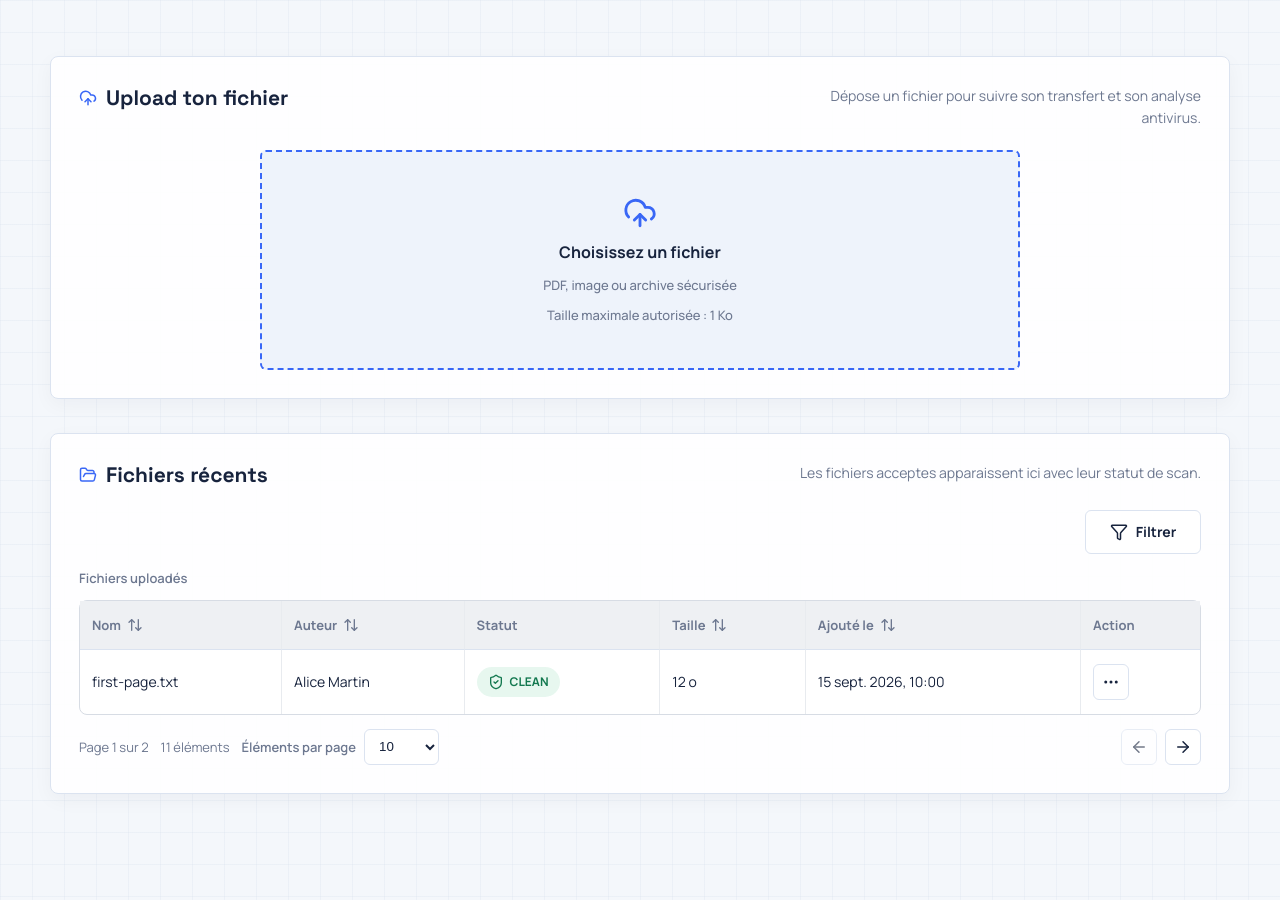
Test case: DashboardPage › loads the next recent files page from the backend
Check: the text "first-page.txt" is shown, box top-left (80, 650), bottom-right (282, 714)
Click the button named "Page suivante".
click(1183, 747)  # box top-left (1165, 729), bottom-right (1201, 765)
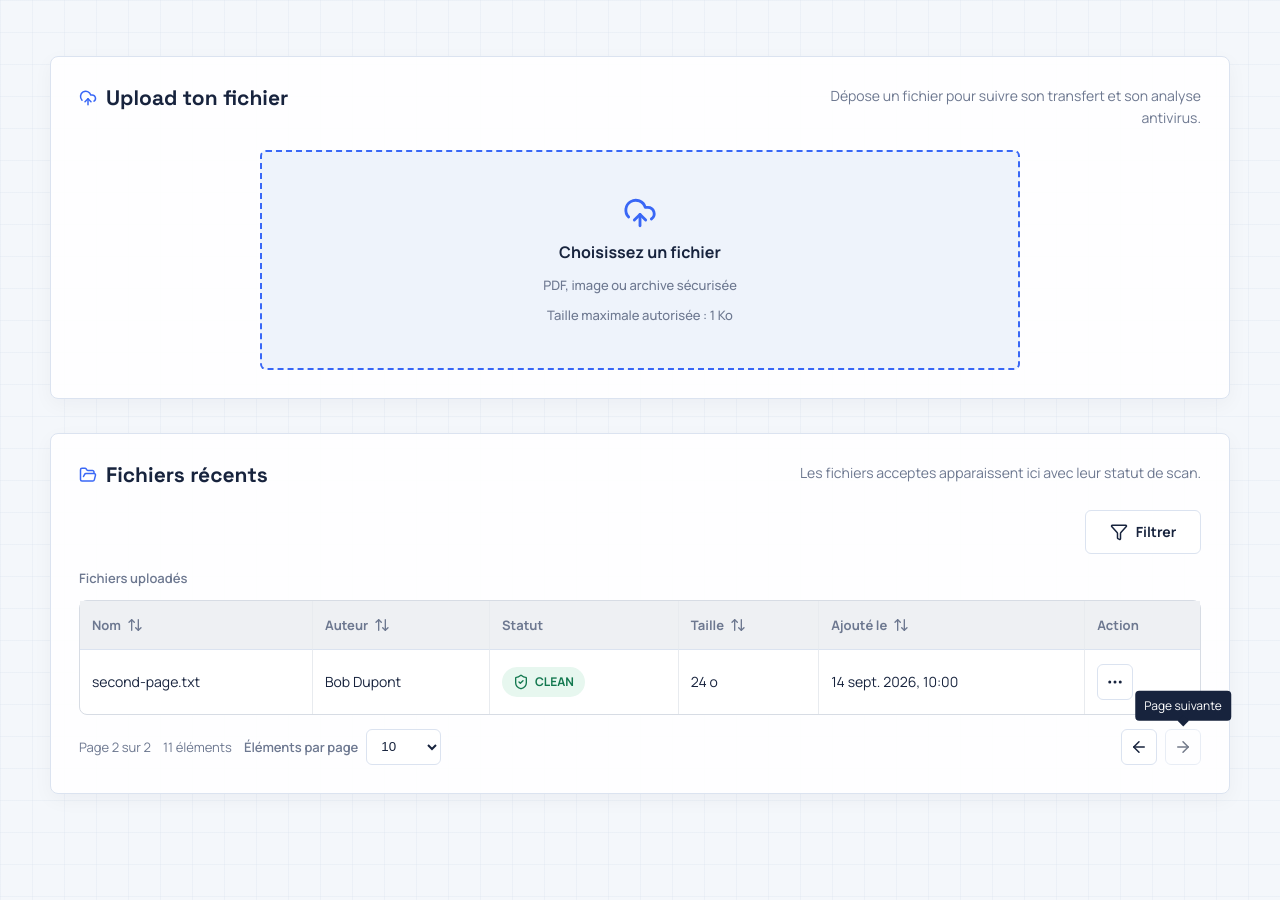
Check: the text "second-page.txt" is shown, box top-left (80, 650), bottom-right (313, 714)
Check: the text "first-page.txt" is gone
